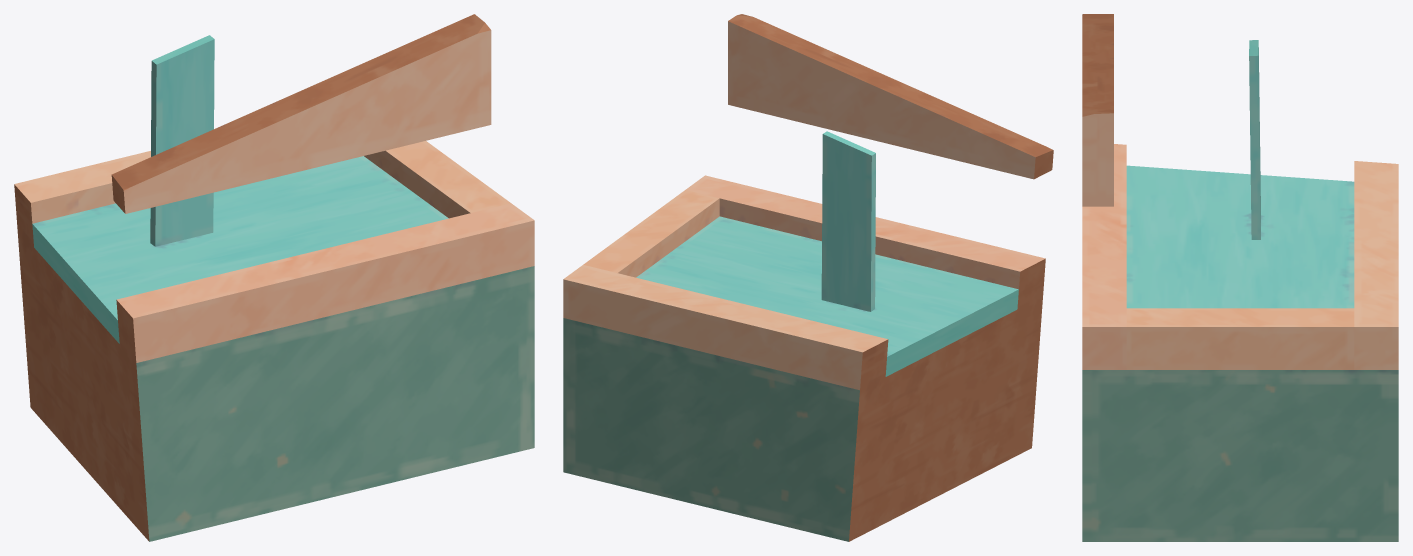
File: spout_s01.fbx
3 views of the same model, side by side, from view 1: azimuth 30°, elevation 25°; view 2: azimuth 150°, elevation 25°; view 3: azimuth 270°, elevation 25° (orthographic). The views are drawn at different scales.
Visible parts, largest first — view 1: spout_s01; view 2: spout_s01; view 3: spout_s01.
Part boxes in pixels (<box>): spout_s01: <box>14,14,534,541</box>; spout_s01: <box>563,14,1053,541</box>; spout_s01: <box>1082,14,1398,541</box>.
Bounding box in the file's own units: 2.84 × 2.85 × 2.
